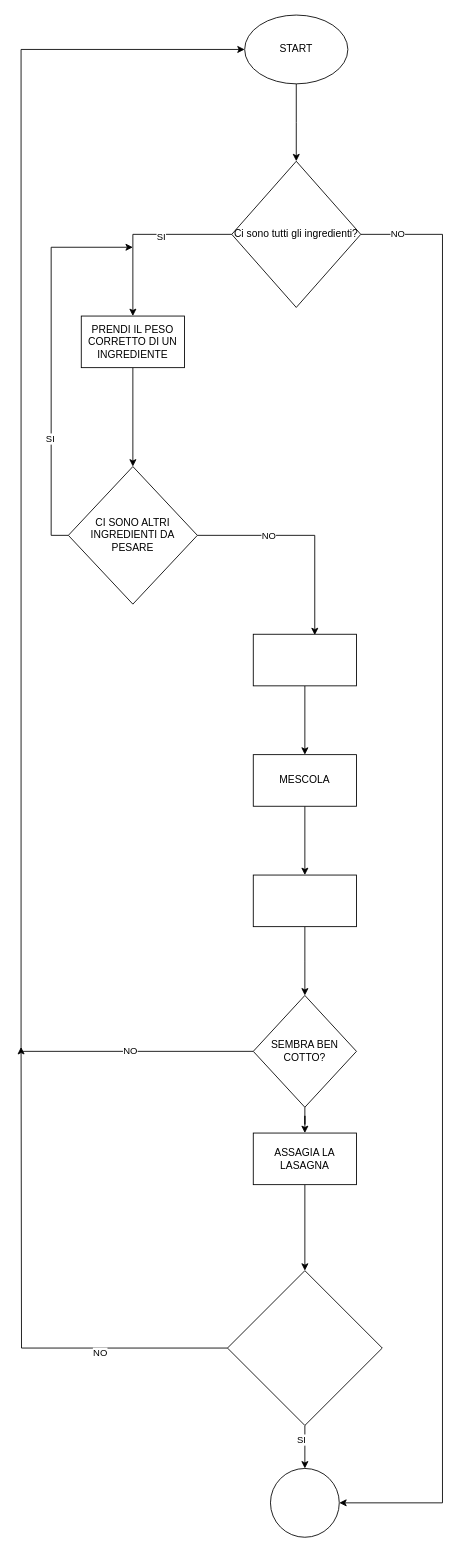
Some shapes in this 464 by 1552 pixel diagram are drawn without their labels. The shapes that lost their labels are listed below. From the top down, each one's centre as x and y in pixels, then its label:
At [304,659]: "METTI GLI INGREDIENTI NEL CONTENITORE".
At [304,900]: "METTI IN FORNO IL PREPARATO".
At [304,1347]: "E' BUONA COME QUELLA DELLA NONNA ?".
At [304,1502]: "END".
